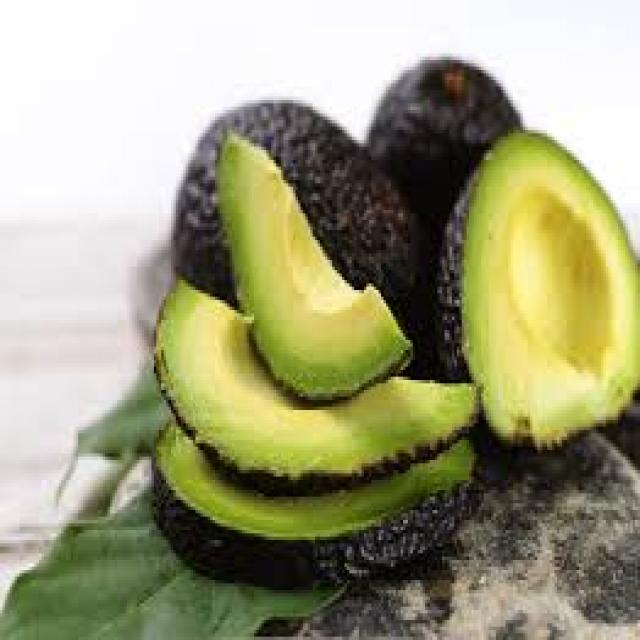organic waste: (240, 426, 638, 636), (166, 97, 432, 363), (149, 267, 476, 483), (435, 127, 637, 450), (146, 417, 476, 583), (217, 127, 408, 400), (0, 496, 342, 636), (364, 60, 518, 190), (56, 347, 176, 453), (127, 233, 176, 350), (608, 390, 638, 473), (112, 450, 152, 503)
